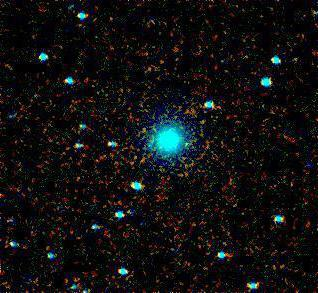star: (183, 128, 213, 158)
